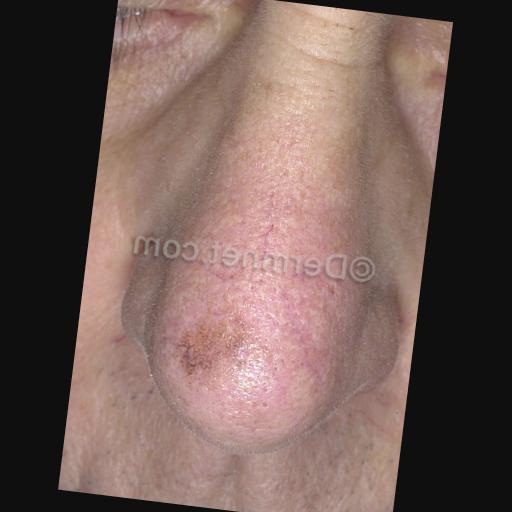Skin_Lesion: (170, 312, 262, 388), (322, 278, 342, 304)
